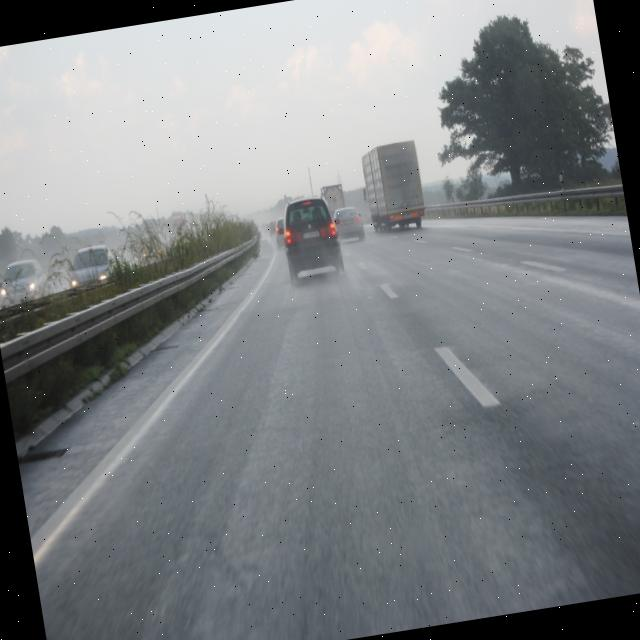bus: (358, 140, 428, 238)
car: (276, 190, 344, 278), (64, 240, 124, 292), (0, 254, 52, 305), (332, 205, 367, 245), (272, 216, 288, 246), (266, 219, 276, 236)
